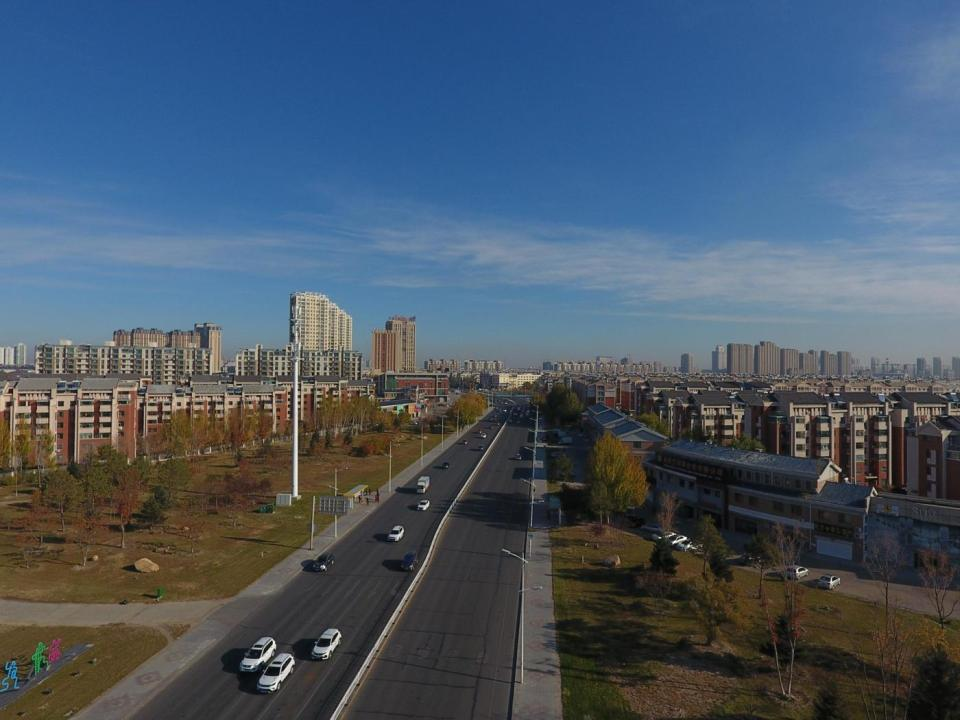bus: (520, 410, 524, 418), (517, 406, 522, 411)
car: (257, 653, 295, 693), (240, 636, 276, 672), (311, 628, 341, 660), (738, 550, 766, 566), (312, 552, 334, 570), (817, 574, 841, 590), (677, 538, 703, 552), (401, 552, 418, 572), (786, 564, 808, 579), (652, 529, 676, 541), (665, 534, 687, 547), (640, 523, 666, 533), (388, 525, 404, 541), (626, 516, 645, 528), (418, 500, 430, 511), (558, 472, 574, 478), (442, 461, 450, 470), (552, 451, 566, 456), (552, 453, 564, 458), (409, 420, 417, 425), (578, 432, 588, 436), (478, 444, 484, 450), (516, 454, 522, 459), (462, 439, 468, 444), (552, 428, 560, 431), (477, 428, 482, 432), (481, 434, 486, 438), (438, 403, 444, 406), (495, 421, 499, 425), (525, 413, 529, 417), (444, 404, 448, 407), (489, 425, 493, 428), (500, 401, 503, 404), (503, 409, 506, 412), (489, 417, 492, 420), (517, 421, 520, 424), (514, 413, 518, 415), (508, 420, 512, 422), (524, 412, 528, 414), (504, 402, 507, 404), (497, 399, 500, 401), (495, 406, 498, 408), (497, 408, 500, 410), (494, 414, 496, 417), (494, 419, 496, 422), (498, 410, 500, 412)
truck: (623, 497, 636, 519), (416, 476, 430, 494), (558, 437, 573, 445), (554, 432, 566, 437), (542, 436, 546, 441), (514, 404, 517, 408)
